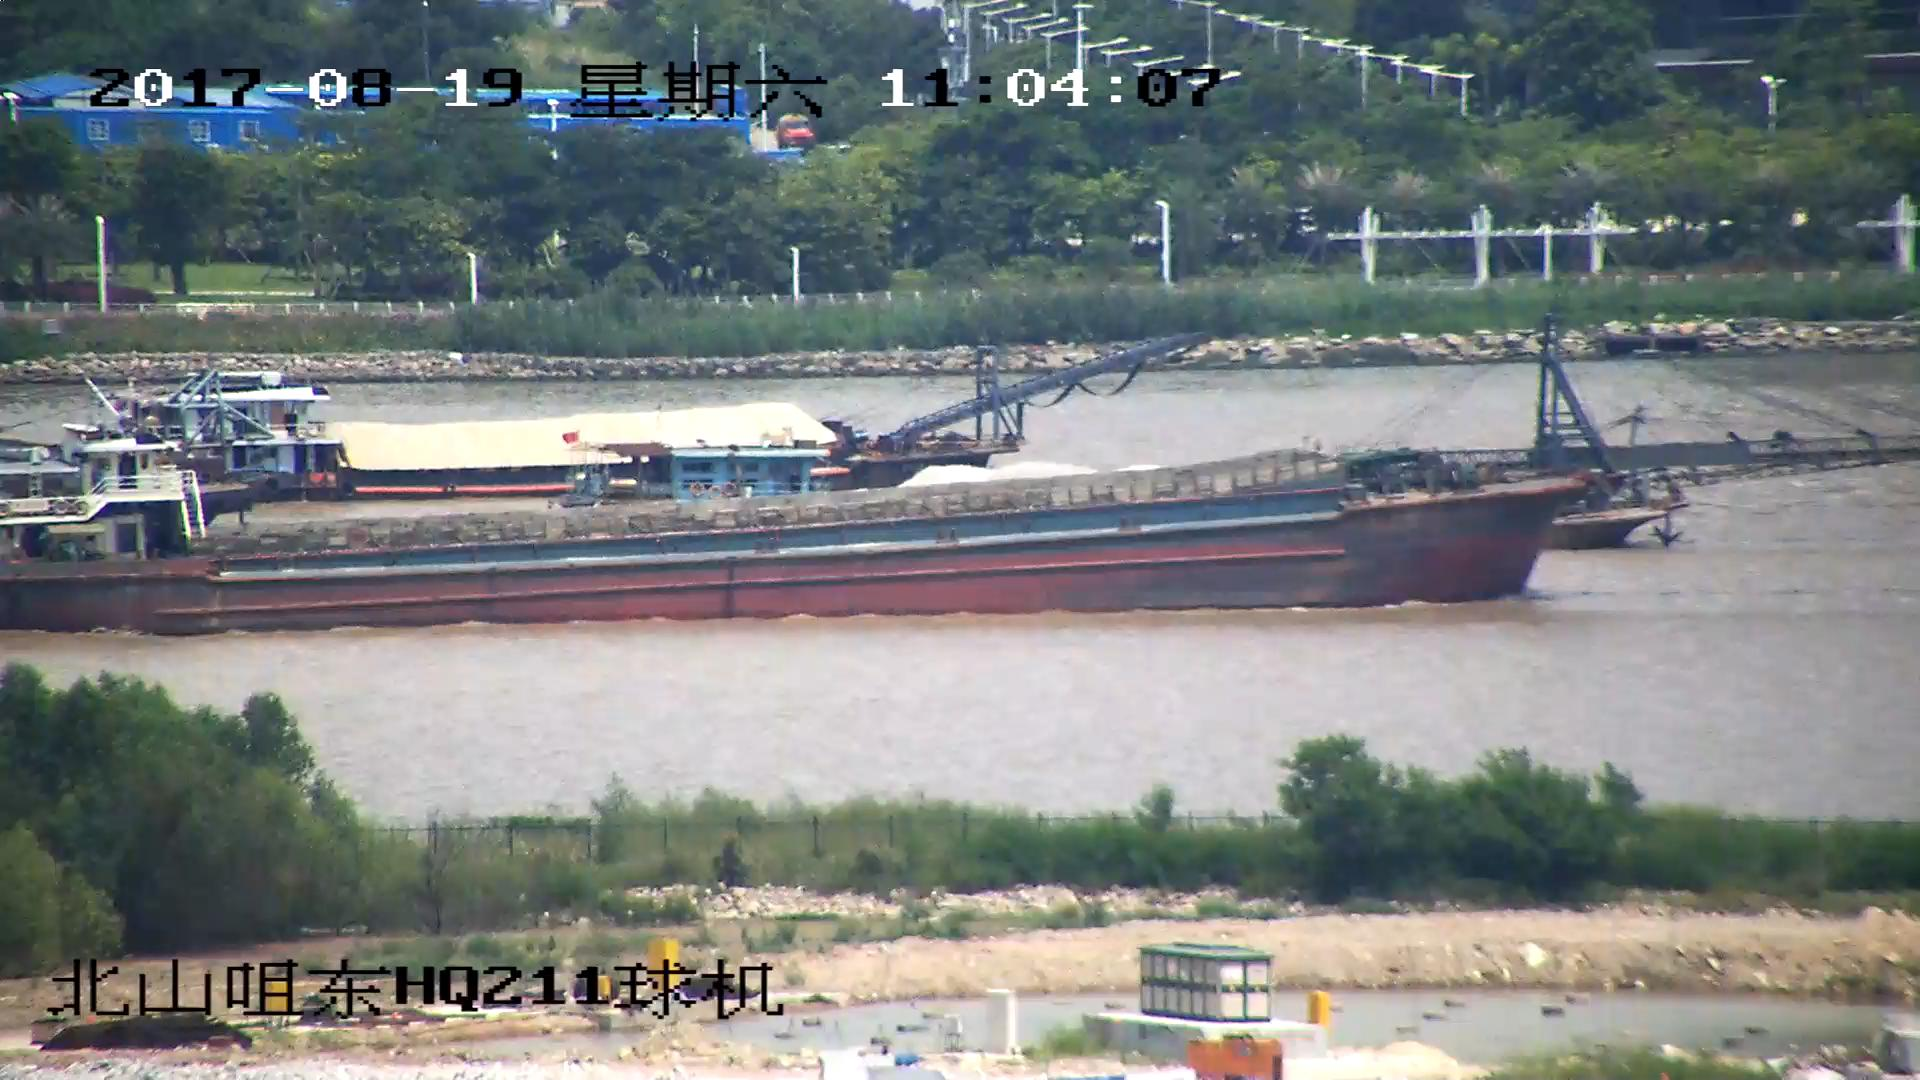bulk cargo carrier: (1, 326, 1788, 636)
ore carrier: (147, 338, 1201, 487), (574, 442, 1920, 553)
